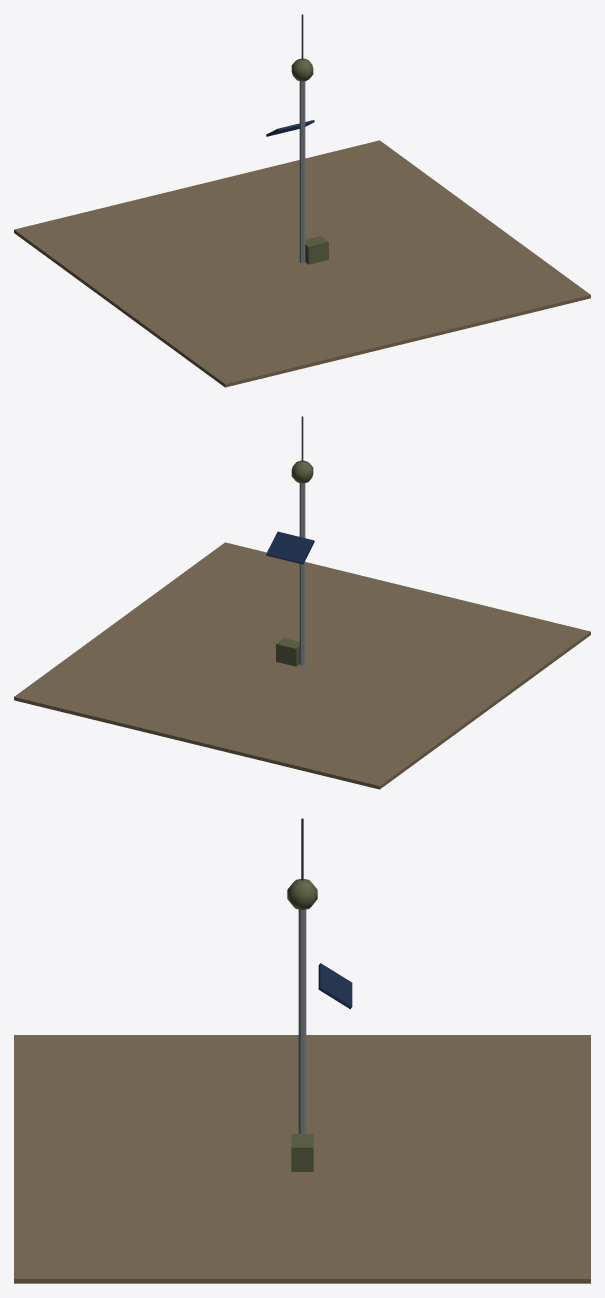
File: acoustic.glb
3 renders of one model, top to bottom at view 1: azimuth 30°, elevation 25°; view 2: azimuth 150°, elevation 25°; view 3: azimuth 270°, elevation 25°, orthographic. The views are drawn at different scales.
Visible parts, largest first — view 1: acoustic; view 2: acoustic; view 3: acoustic.
Boxes of the visible parts, x1=… form: acoustic: x1=14, y1=14, x2=590, y2=387; acoustic: x1=14, y1=416, x2=590, y2=789; acoustic: x1=14, y1=818, x2=590, y2=1283.
Size of the model in its own units: 9 by 5.9 by 9.
